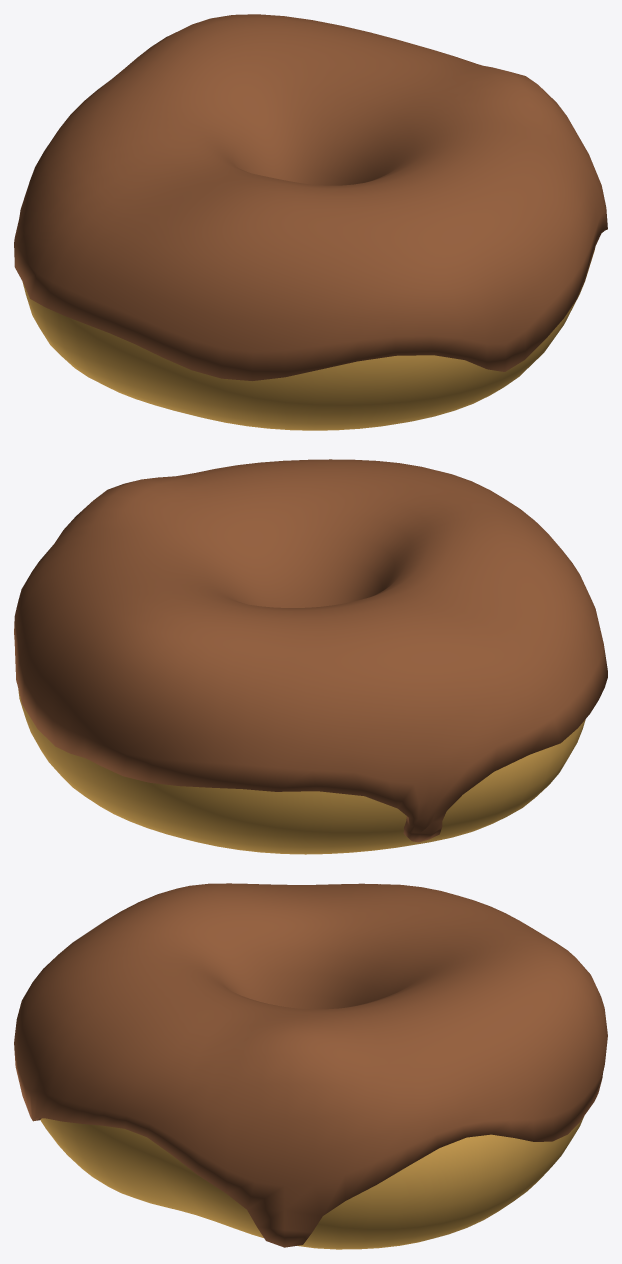
File: Donut.fbx
The picture shows the model from 3 angles, top to bottom: view 1: azimuth 30°, elevation 25°; view 2: azimuth 150°, elevation 25°; view 3: azimuth 270°, elevation 25°; orthographic projection. The views are drawn at different scales.
Visible parts, largest first — view 1: Icing, Donut; view 2: Icing, Donut; view 3: Icing, Donut.
Part boxes in pixels (bbox=[...]): Icing: bbox=[14, 14, 607, 380]; Donut: bbox=[22, 249, 594, 430]; Icing: bbox=[14, 459, 607, 842]; Donut: bbox=[18, 689, 585, 854]; Icing: bbox=[14, 883, 607, 1247]; Donut: bbox=[40, 1117, 583, 1249].
Size of the model in its own units: 12.47 by 5.51 by 12.74.
